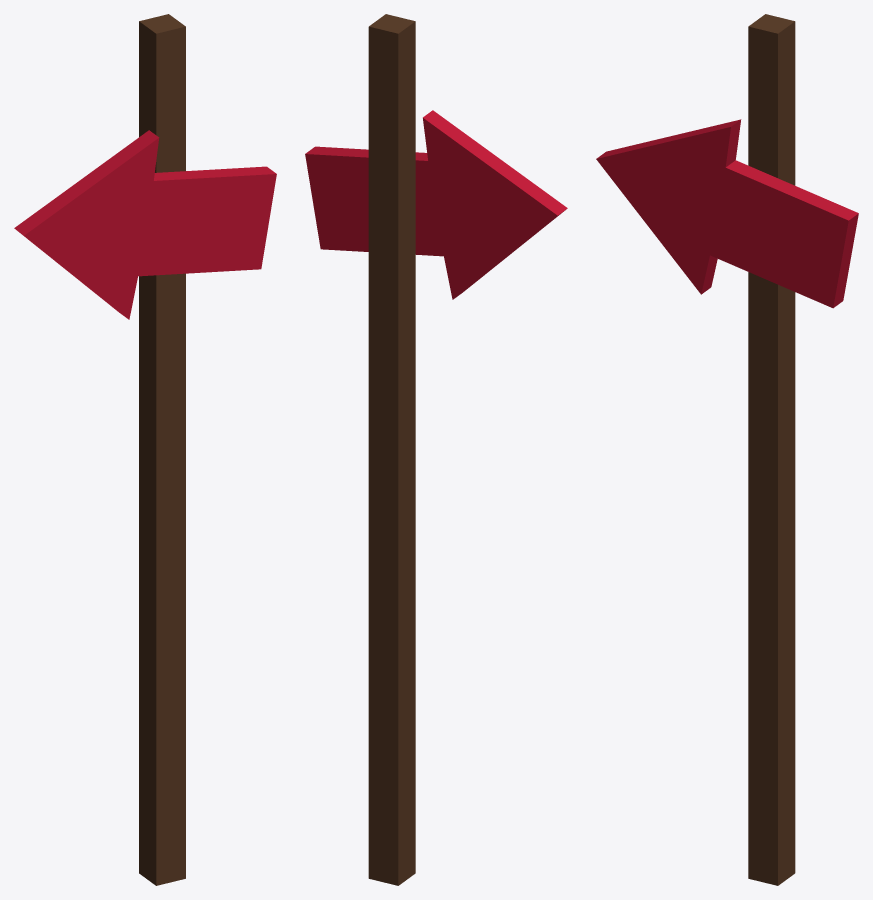
The model's file is obj_Cartel.fbx.
The picture shows the model from 3 angles, left to right: view 1: azimuth 30°, elevation 25°; view 2: azimuth 150°, elevation 25°; view 3: azimuth 330°, elevation 25°; orthographic projection.
Visible parts, largest first — view 1: Cube; view 2: Cube; view 3: Cube.
Boxes of the visible parts, left/top/right/bottom form: Cube: left=14, top=14, right=276, bottom=885; Cube: left=305, top=14, right=567, bottom=885; Cube: left=596, top=14, right=858, bottom=885.
Size of the model in its own units: 1.1 by 3.55 by 0.2059.
